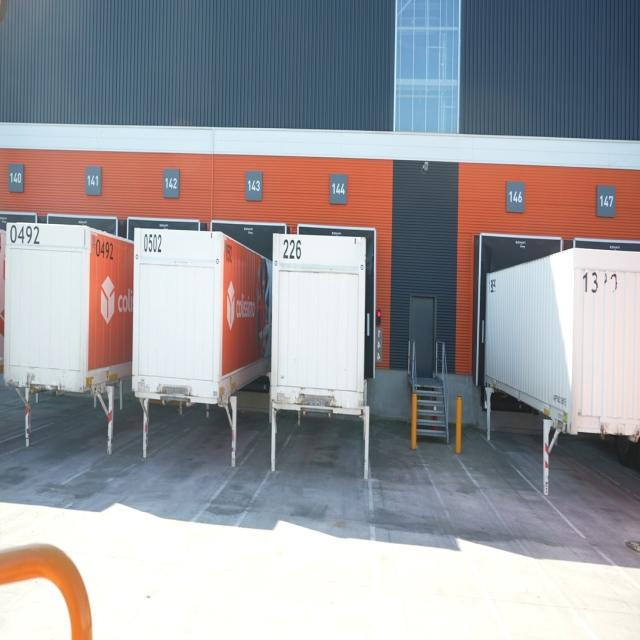Code: (579, 263, 628, 305), (9, 222, 42, 249), (282, 234, 308, 266), (92, 234, 116, 262), (140, 232, 167, 255)
